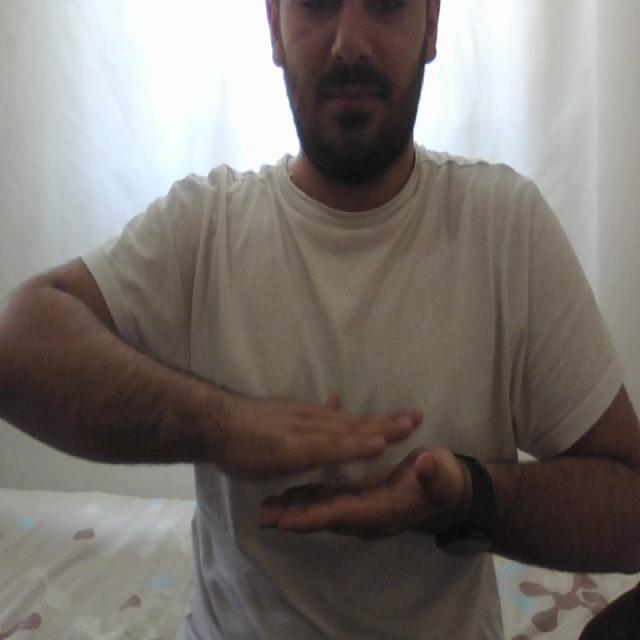Arkadas: (126, 372, 629, 559)
